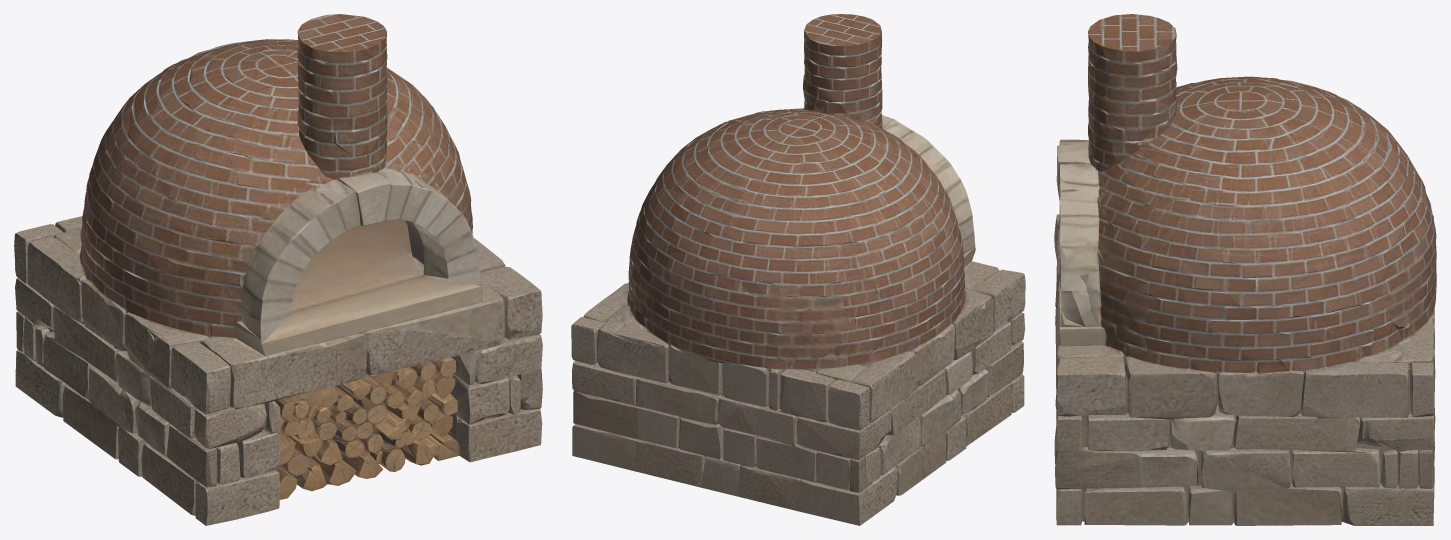
File: pizza_oven_brick.glb
The picture shows the model from 3 angles, left to right: view 1: azimuth 30°, elevation 25°; view 2: azimuth 150°, elevation 25°; view 3: azimuth 270°, elevation 25°; orthographic projection. The views are drawn at different scales.
Parts seen in each view (by area): view 1: Mesh_0; view 2: Mesh_0; view 3: Mesh_0.
Boxes of the visible parts, x1,y1,x2,y2 form: Mesh_0: (14, 14, 542, 525); Mesh_0: (571, 14, 1025, 525); Mesh_0: (1054, 14, 1436, 525).
Size of the model in its own units: 1.85 by 2.2 by 1.83.
1 material, 1 textured.
